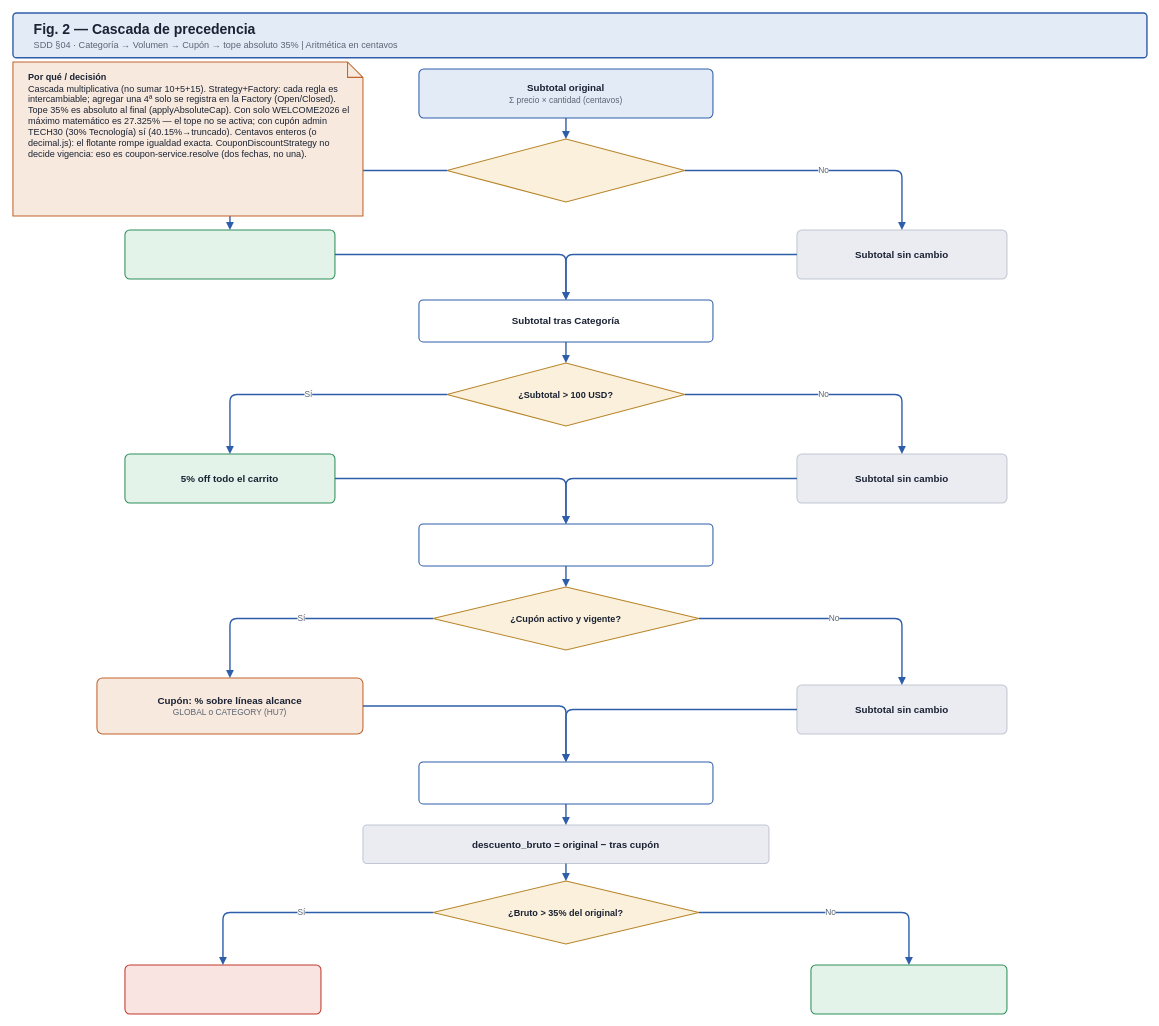
The diagram is 1159 pixels wide and 1026 high, and some of its shapes have lost their labels. Each missing label, with the centre of its shape:
"10% off líneas Tecnología" belongs at (x=229, y=254).
"Descuento = bruto" belongs at (x=908, y=989).
"Subtotal tras Cupón" belongs at (x=565, y=782).
"Subtotal tras Volumen" belongs at (x=565, y=544).
"Truncar a 35%" belongs at (x=222, y=989).
"¿Líneas Tecnología?" belongs at (x=565, y=170).
